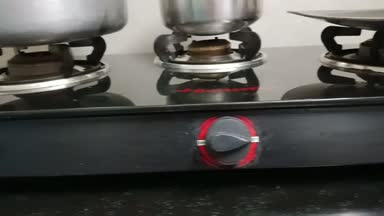flame_gas_off: (161, 27, 263, 174)
